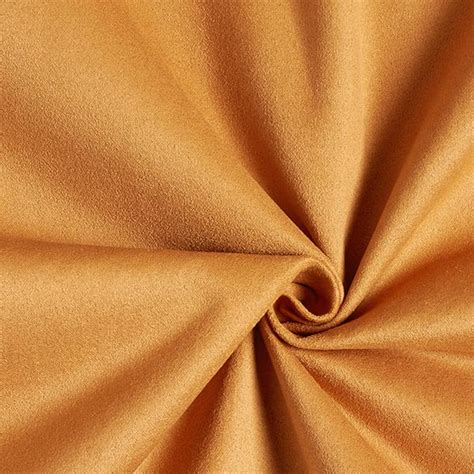gamuza: (1, 2, 474, 474)
